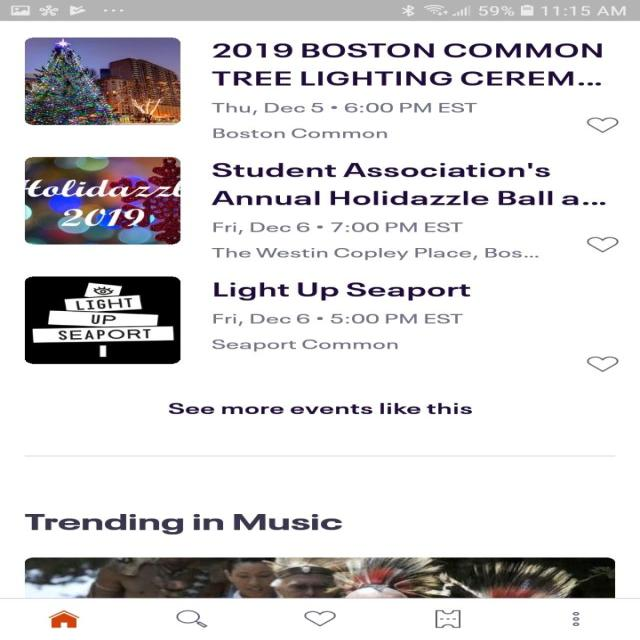Icon: (175, 609, 208, 628), (585, 116, 619, 134), (48, 609, 80, 628), (586, 236, 618, 253), (585, 356, 619, 372), (303, 610, 336, 626), (434, 609, 461, 628), (570, 611, 580, 626)
Image: (24, 557, 615, 598), (25, 37, 182, 126), (23, 156, 180, 245), (23, 276, 180, 364)
Text: (210, 162, 606, 206), (210, 43, 602, 86), (210, 222, 538, 260), (212, 312, 462, 352), (212, 102, 478, 138), (24, 513, 342, 535), (213, 282, 471, 300), (168, 402, 472, 414)
